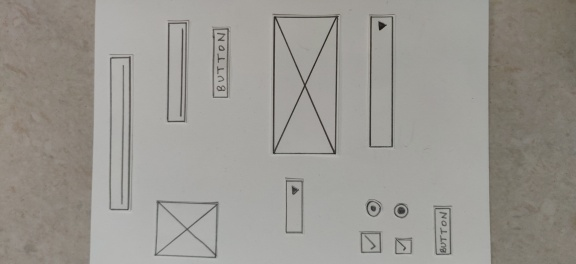button: (210, 26, 231, 99), (432, 203, 454, 255)
checkbox: (358, 229, 383, 256), (392, 235, 416, 256)
dropdown: (366, 13, 396, 151), (281, 175, 306, 236)
img: (269, 12, 340, 156), (152, 198, 221, 261)
radio: (364, 198, 382, 218), (392, 201, 410, 219)
text: (106, 51, 135, 213), (164, 19, 189, 125)
